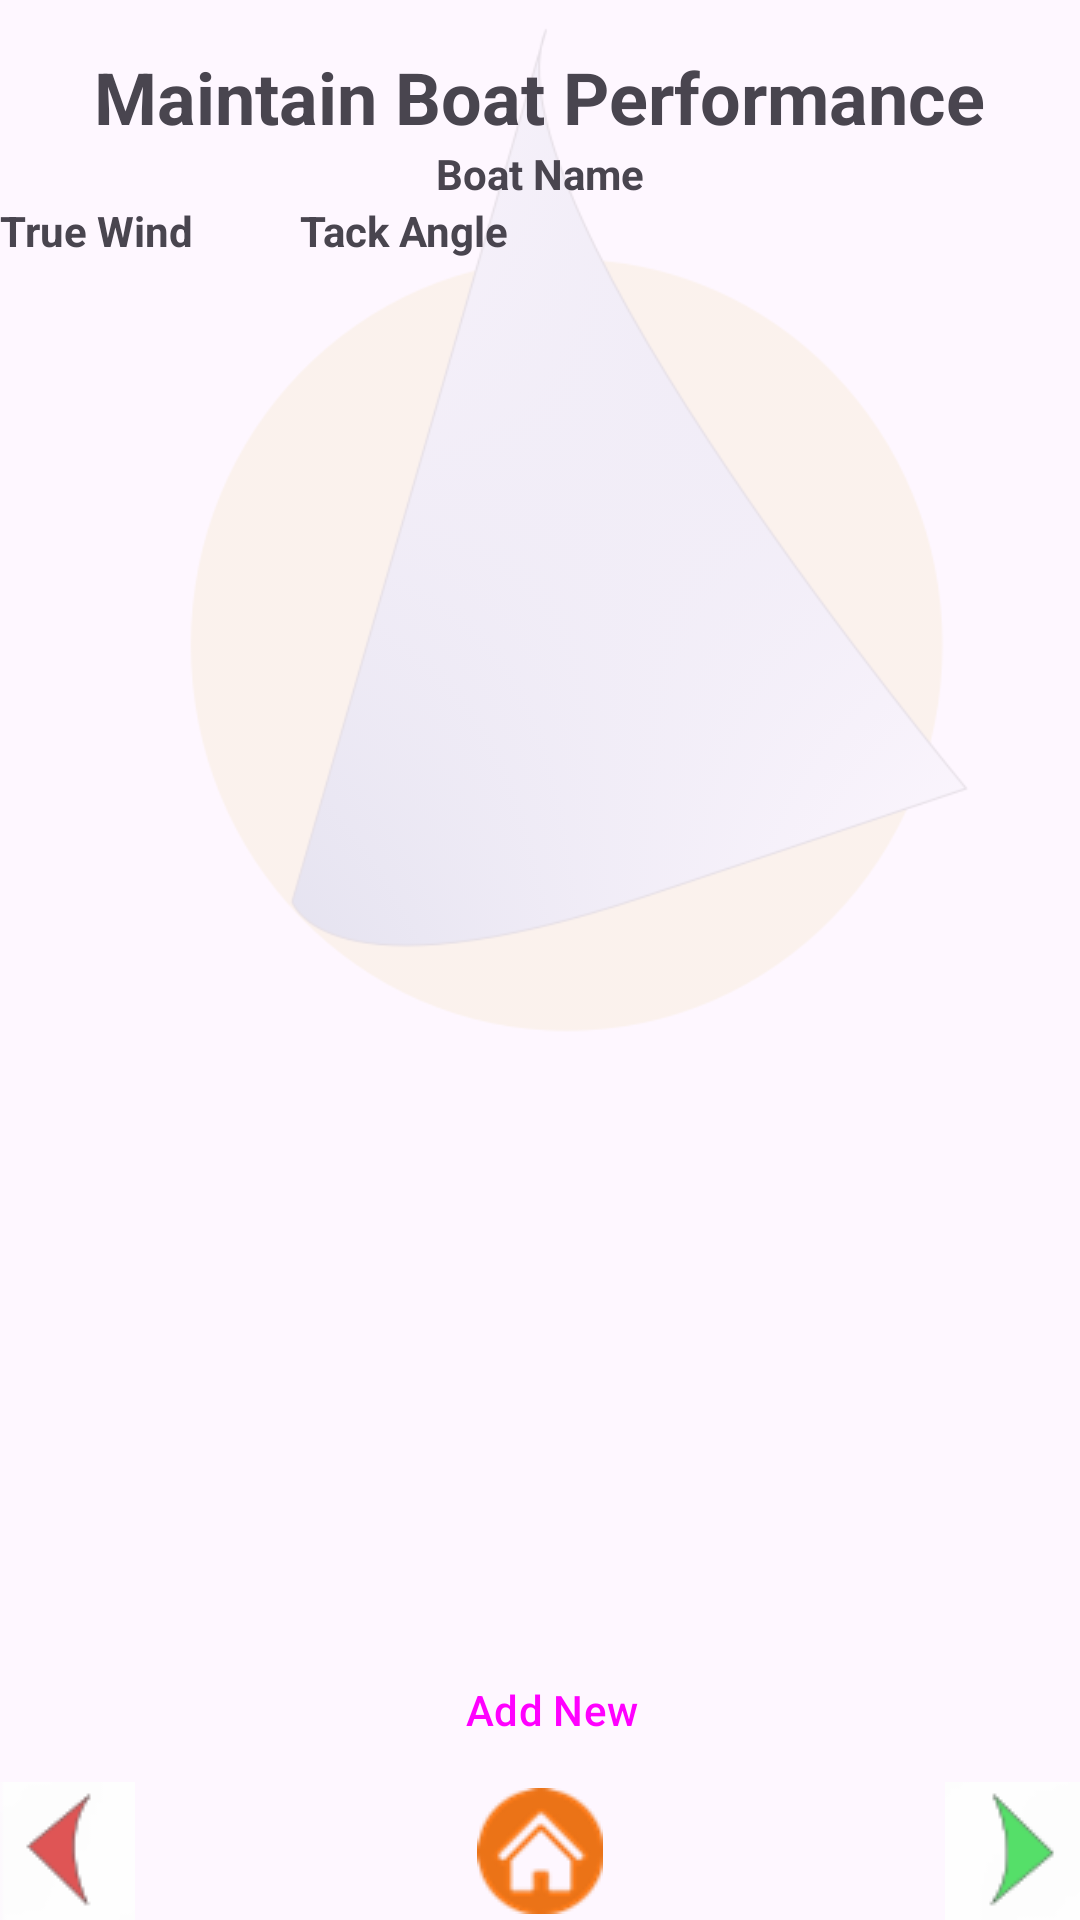

Icon bounding boxes for this 1080 x 1920 phone screenshot, format (x1, y1, x2, y2):
Home: (477, 1788, 603, 1914)
Left Nav: (26, 1793, 91, 1905)
Right Nav: (990, 1793, 1054, 1905)
